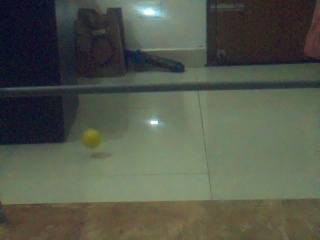ball: (81, 128, 102, 149)
